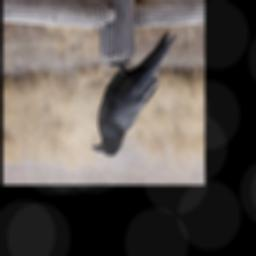Crow: (91, 29, 177, 158)
